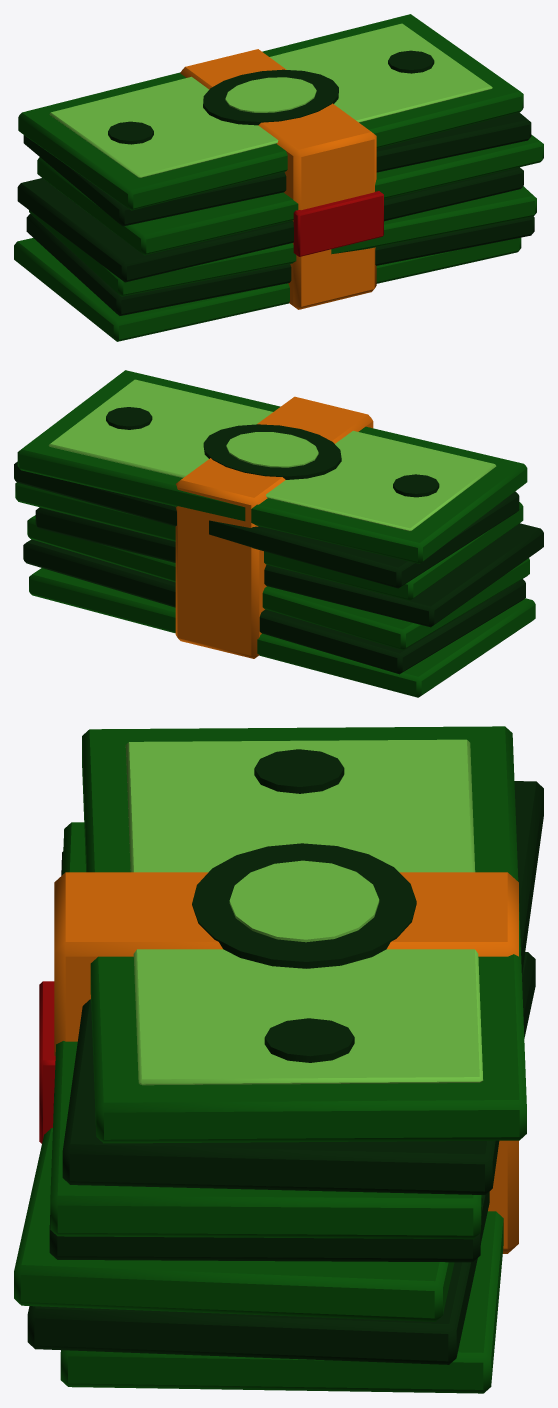
Rendered from CashStack.obj.
The picture shows the model from 3 angles, top to bottom: view 1: azimuth 30°, elevation 25°; view 2: azimuth 150°, elevation 25°; view 3: azimuth 270°, elevation 25°; orthographic projection. The views are drawn at different scales.
Visible parts, largest first — view 1: CashStack; view 2: CashStack; view 3: CashStack.
Boxes of the visible parts, x1=… form: CashStack: x1=14, y1=14, x2=543, y2=341; CashStack: x1=14, y1=370, x2=543, y2=697; CashStack: x1=14, y1=726, x2=543, y2=1393.
Size of the model in its own units: 2.54 by 0.9325 by 1.42.
